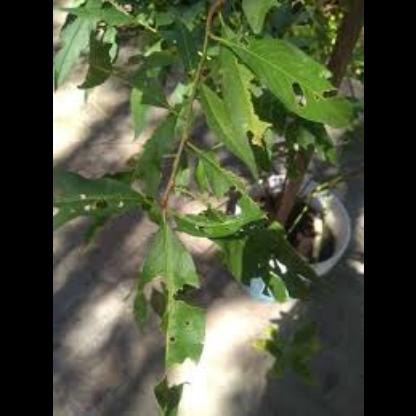agujero: (136, 277, 168, 387), (244, 78, 278, 126), (201, 186, 249, 219), (169, 280, 209, 308), (165, 354, 195, 388), (288, 78, 310, 114), (267, 255, 289, 277), (318, 89, 343, 103), (94, 198, 112, 210), (80, 203, 94, 211), (114, 198, 124, 208), (78, 192, 86, 200), (169, 334, 177, 342), (186, 320, 190, 328)
